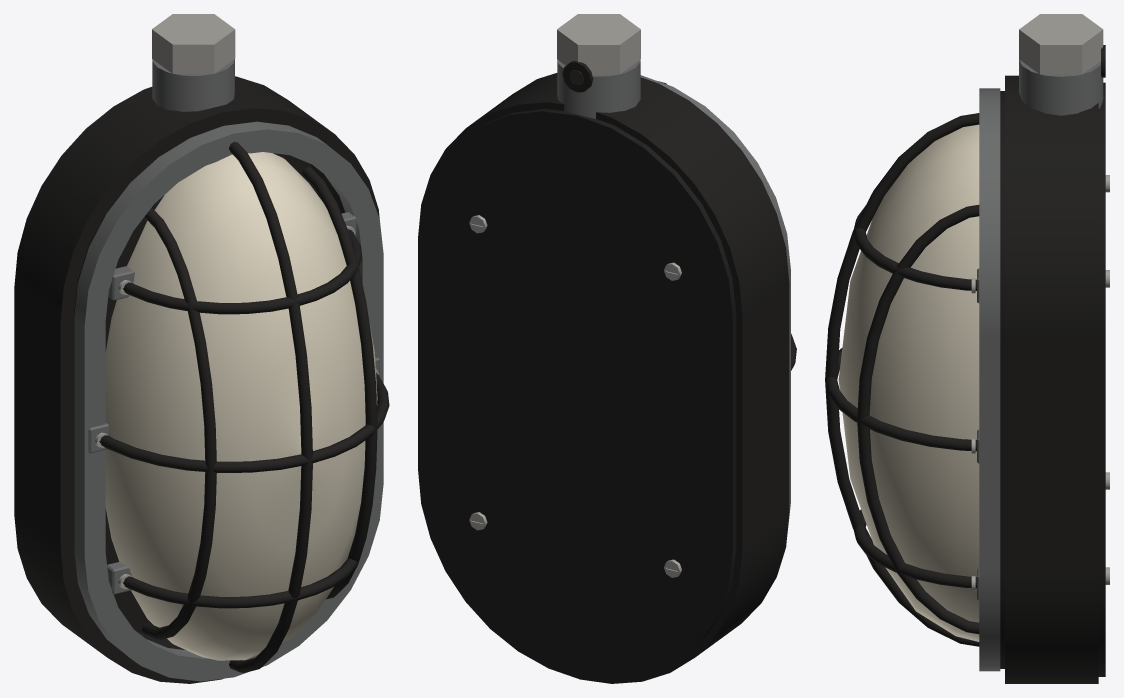
File: hallway-caged-sconce-166ccb930e4c.glb
The picture shows the model from 3 angles, left to right: view 1: azimuth 30°, elevation 25°; view 2: azimuth 150°, elevation 25°; view 3: azimuth 270°, elevation 25°; orthographic projection.
Visible parts, largest first — view 1: opal-bulkhead, enamel-black, metal, brushed, rubber; view 2: enamel-black, brushed, metal, rubber; view 3: enamel-black, opal-bulkhead, metal, brushed, rubber.
Part boxes in pixels (bbox=[...]): opal-bulkhead: bbox=[105, 152, 377, 660]; enamel-black: bbox=[14, 76, 389, 683]; metal: bbox=[74, 59, 383, 681]; brushed: bbox=[95, 14, 378, 588]; rubber: bbox=[74, 126, 345, 649]; enamel-black: bbox=[418, 73, 796, 683]; brushed: bbox=[469, 14, 681, 577]; metal: bbox=[557, 60, 790, 536]; rubber: bbox=[562, 61, 593, 92]; enamel-black: bbox=[825, 75, 1105, 683]; opal-bulkhead: bbox=[838, 124, 979, 641]; metal: bbox=[977, 59, 1103, 671]; brushed: bbox=[971, 14, 1109, 590]; rubber: bbox=[1000, 45, 1105, 668].
Size of the model in its own units: 0.16 by 0.3 by 0.1216.
